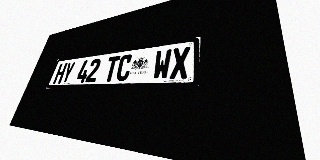2: (85, 58, 102, 82)
4: (75, 60, 92, 83)
C: (115, 54, 133, 81)
H: (53, 63, 68, 84)
T: (103, 56, 121, 82)
W: (152, 49, 172, 80)
X: (169, 46, 190, 79)
Y: (60, 62, 76, 83)
